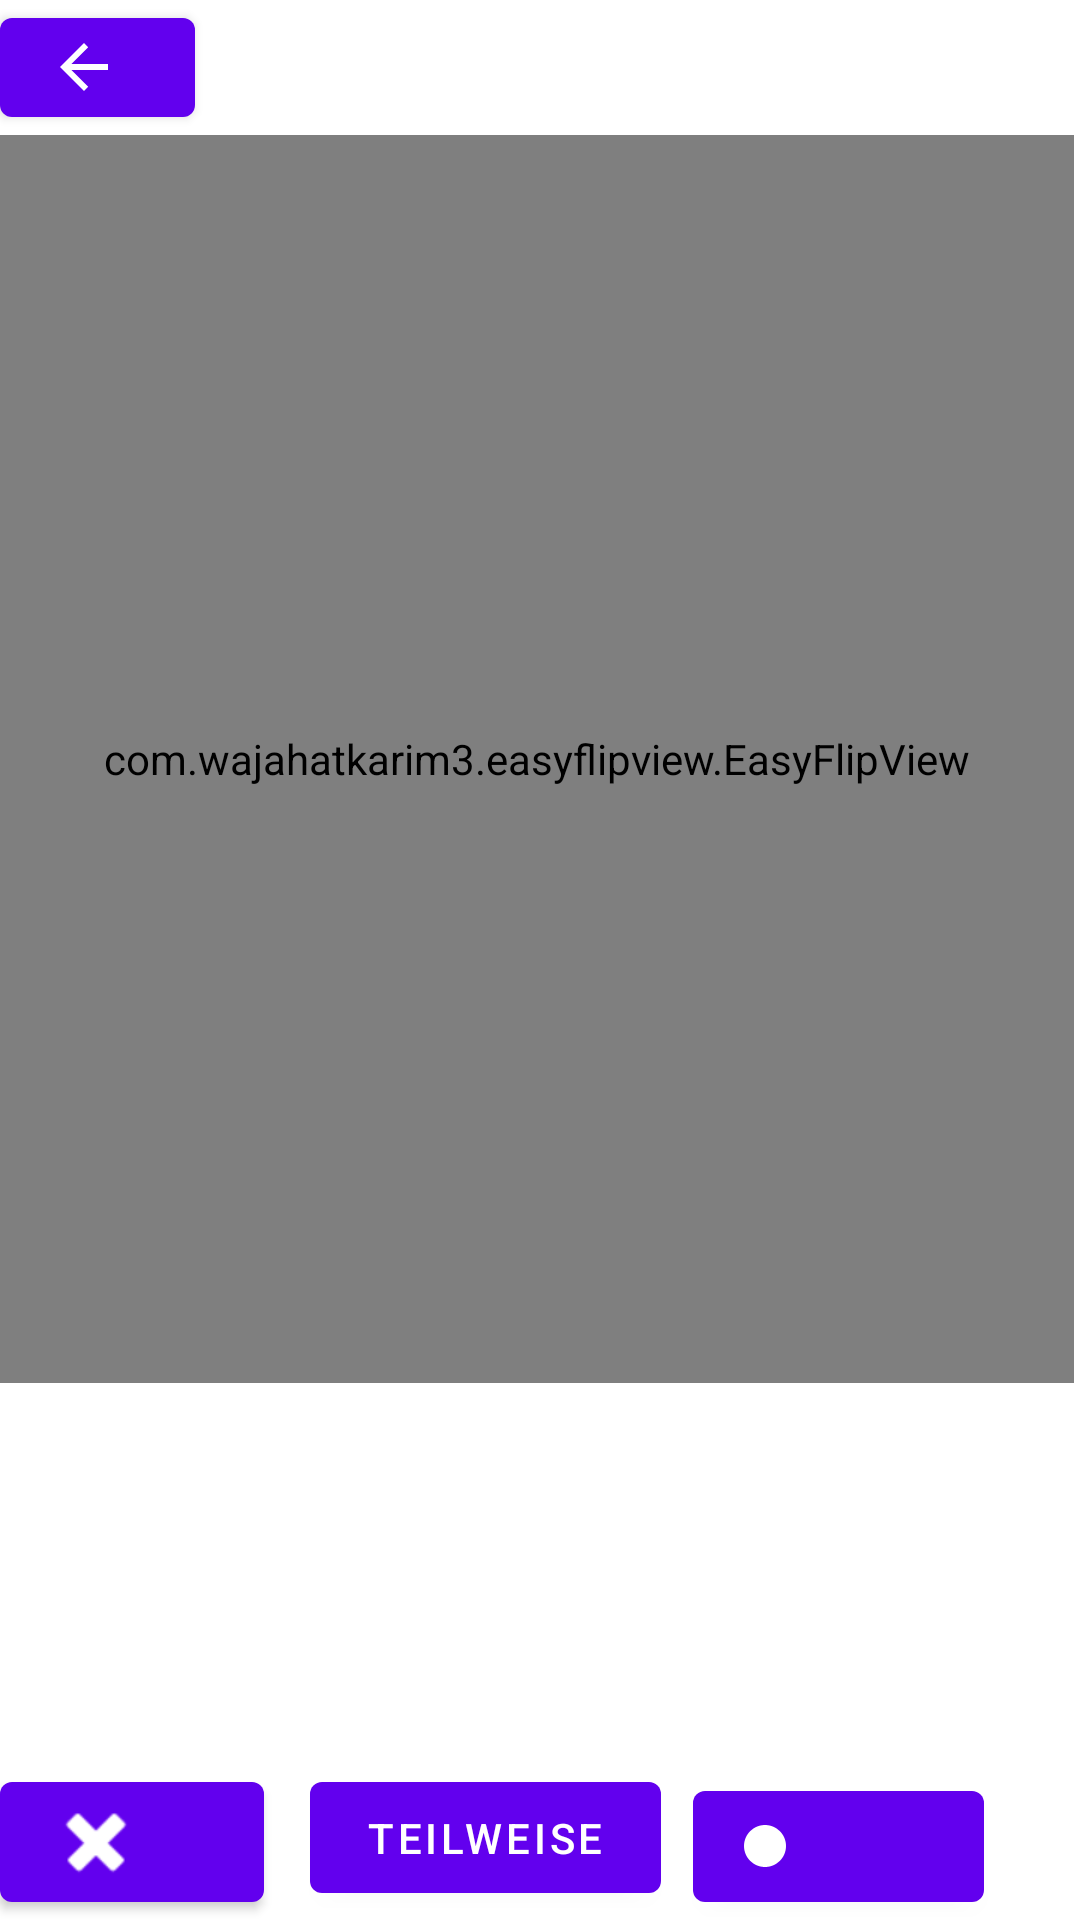

Icon click points for this 1080 x 1920 phone screenshot, format point (x, y):
delete: point (132, 1845)
